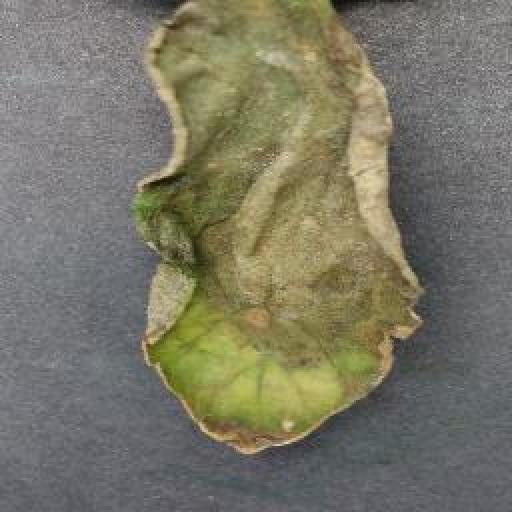Late Blight: (129, 0, 424, 460)
